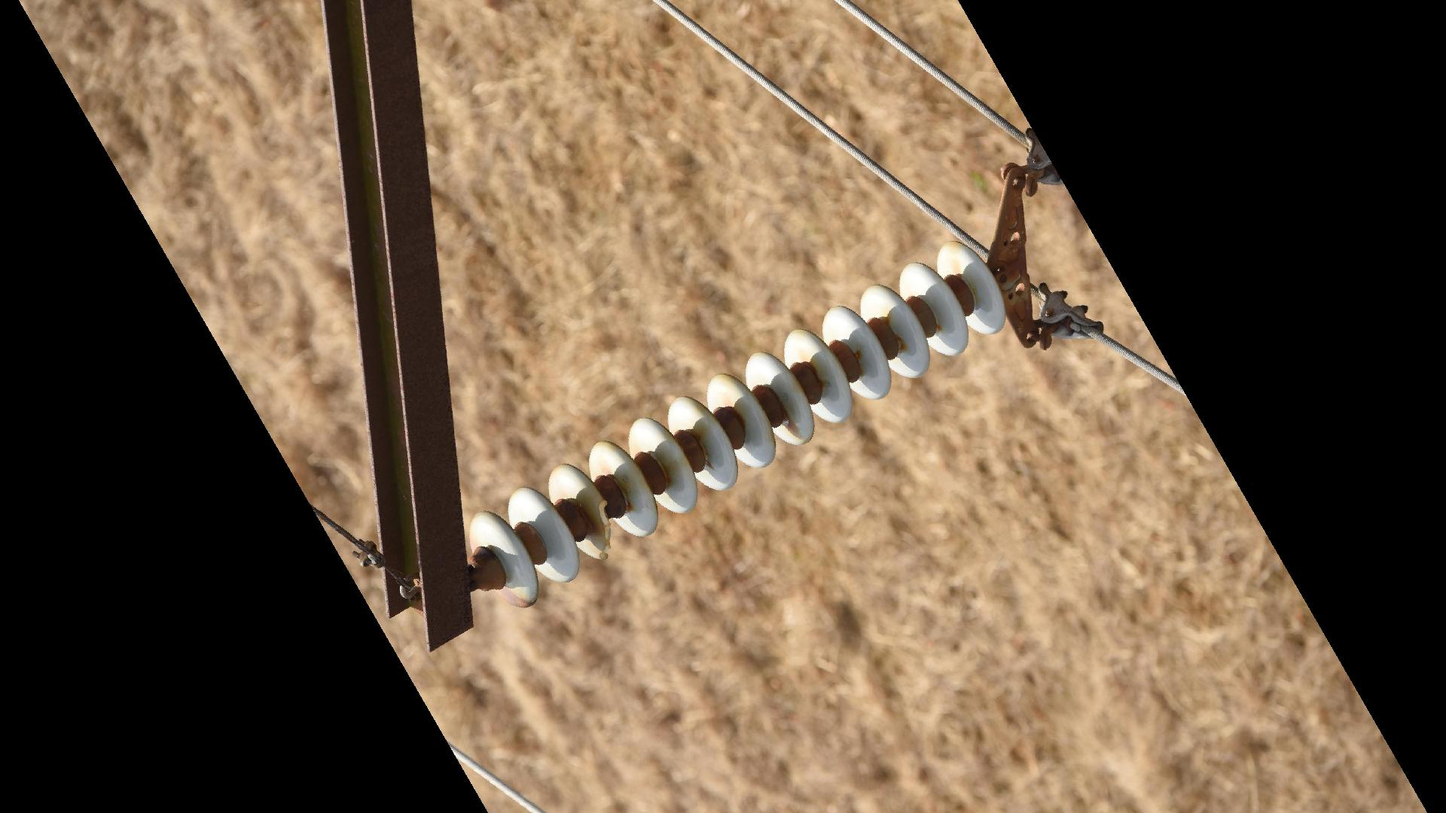insulator: (465, 230, 1009, 612)
insulator_breakage: (587, 495, 618, 566)
